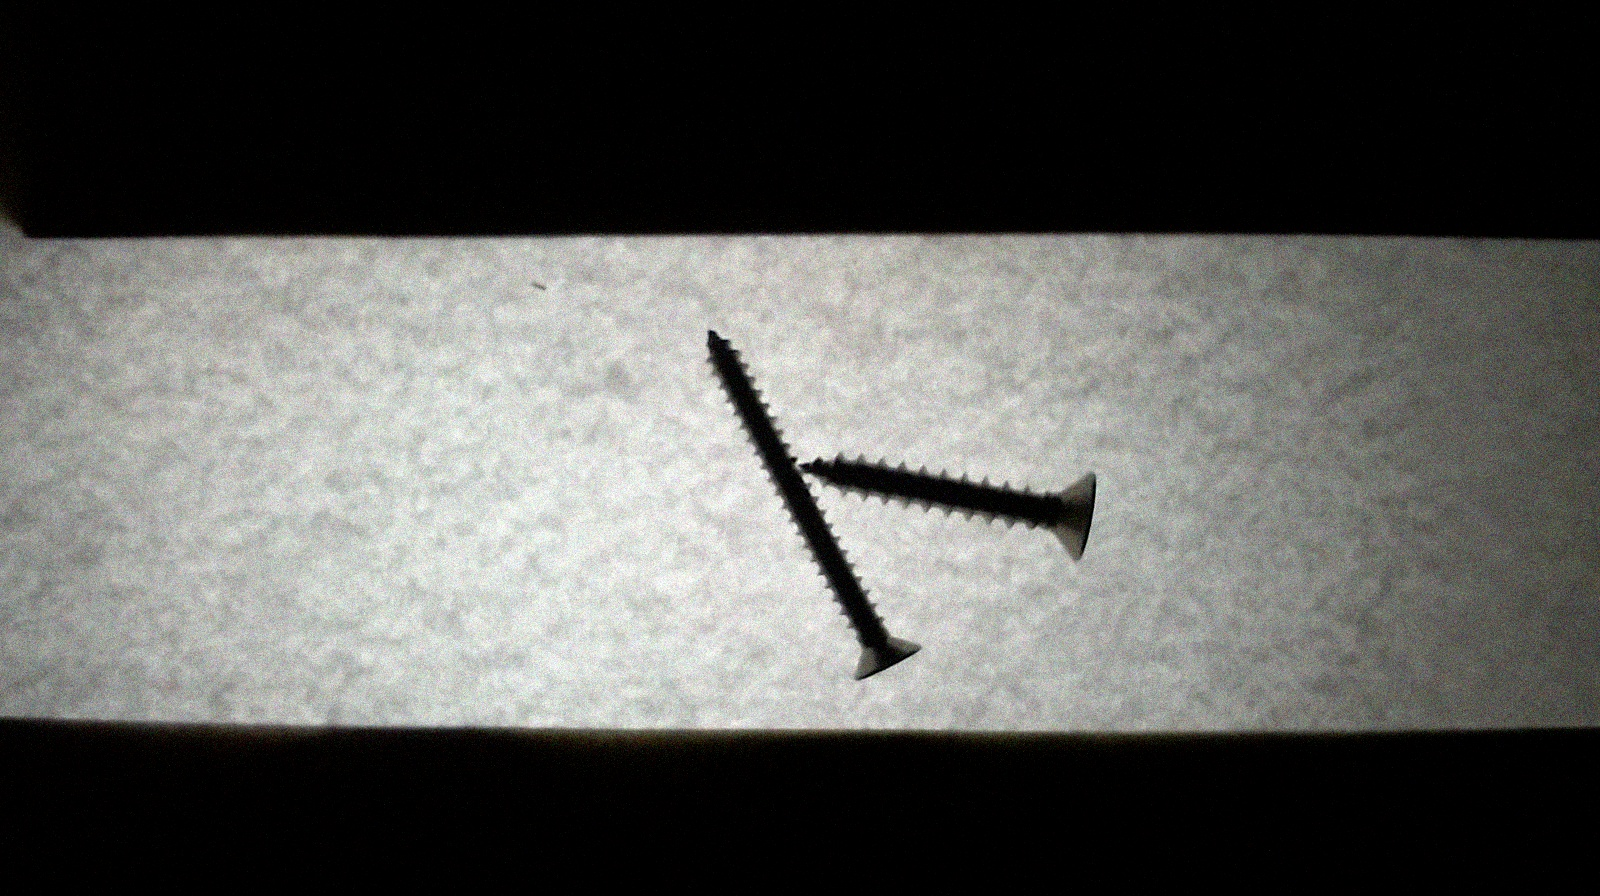S001: (793, 453, 1111, 569)
S002: (690, 322, 927, 688)
